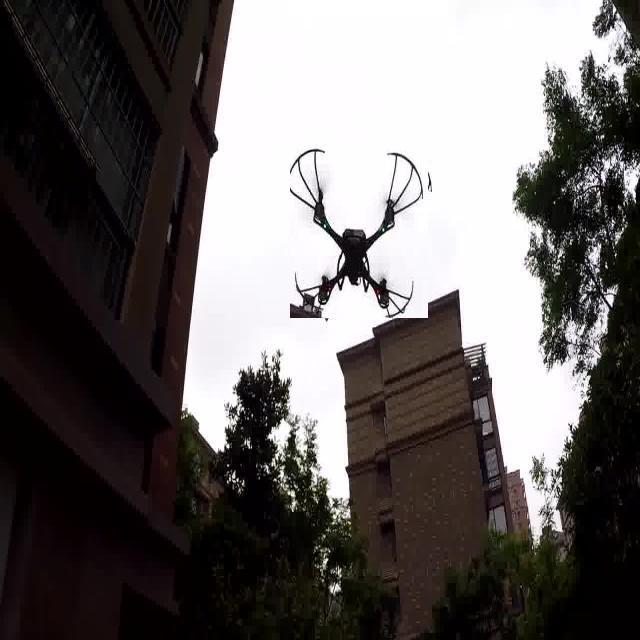drone: (290, 140, 428, 318)
